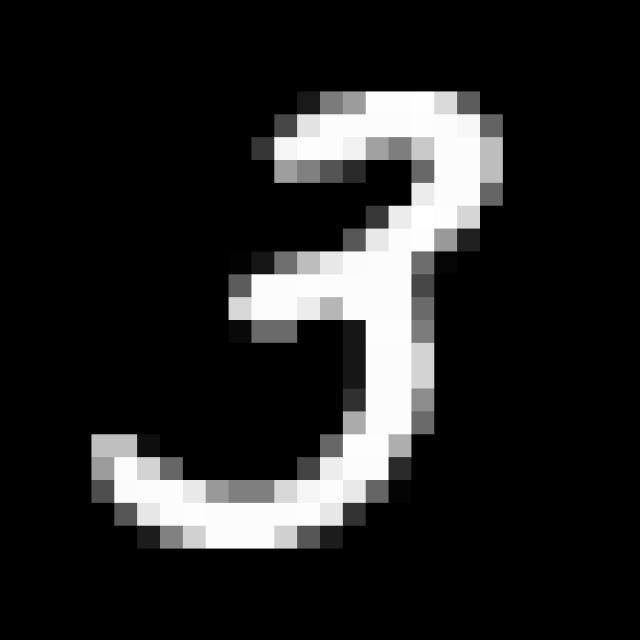three -3-: (78, 78, 521, 556)
